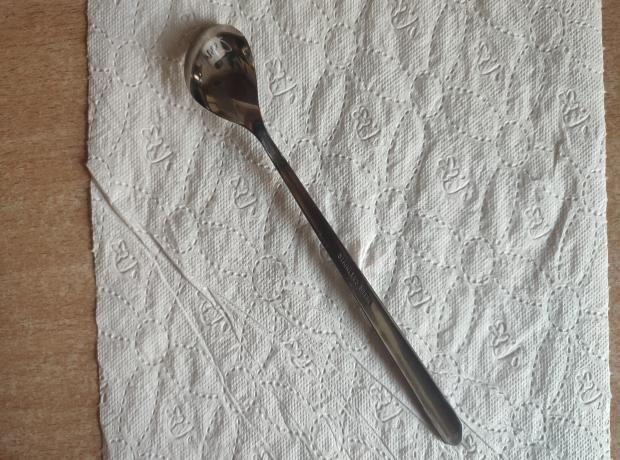metal: (183, 21, 463, 446)
